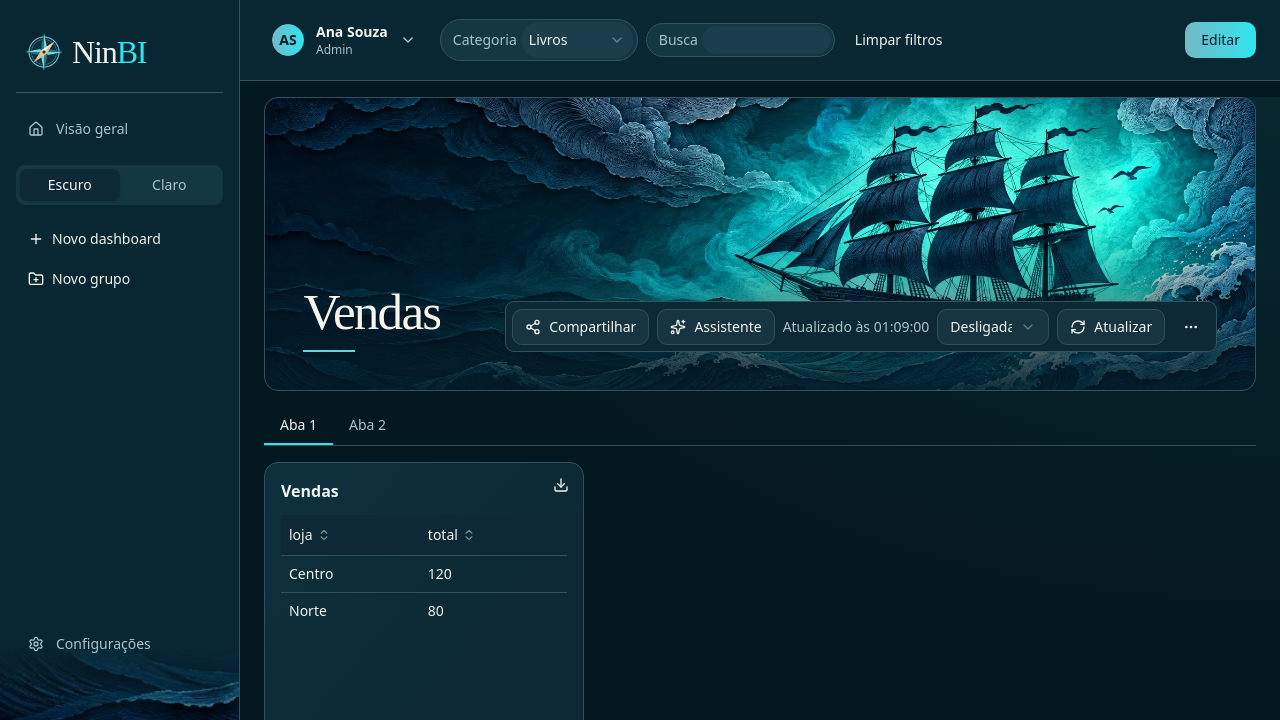
Test: FilterBar › FLT-15 Limpar filtros devolve os valores padrão
Click the dropdown named "Categoria": (577, 40) [521,22,633,58]
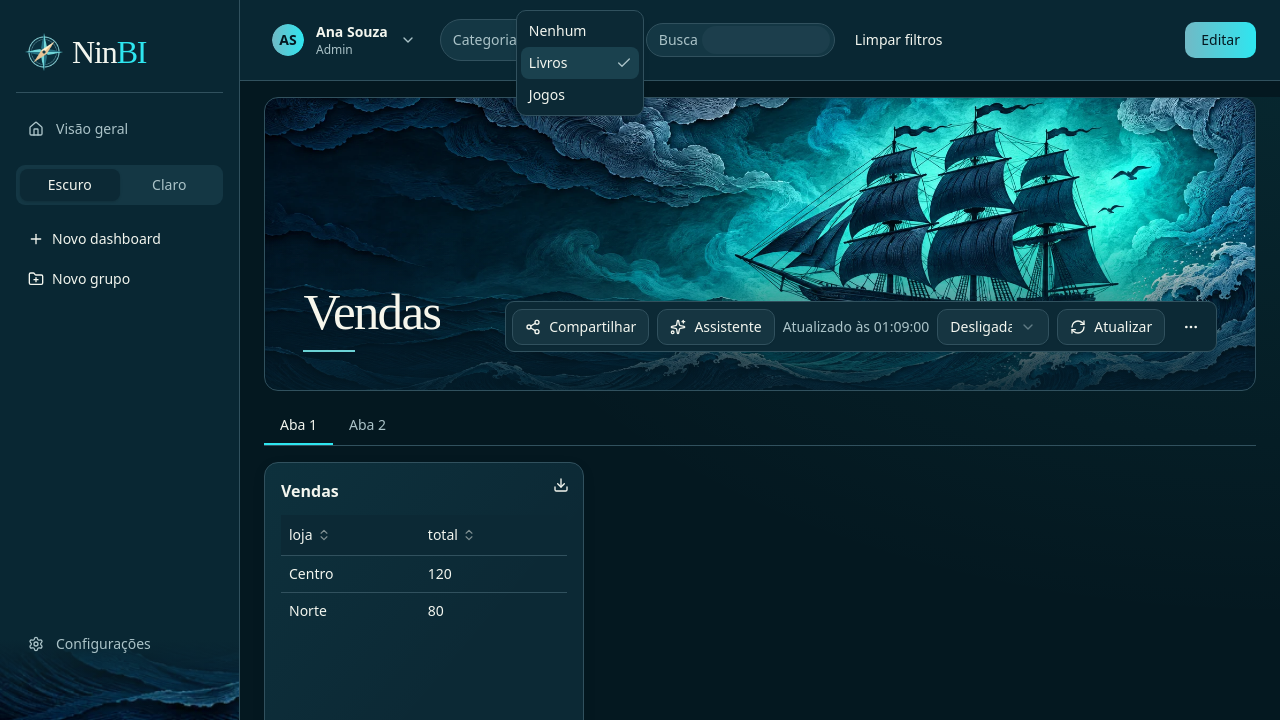
Click the option "Jogos": (547, 94) [529,85,565,104]
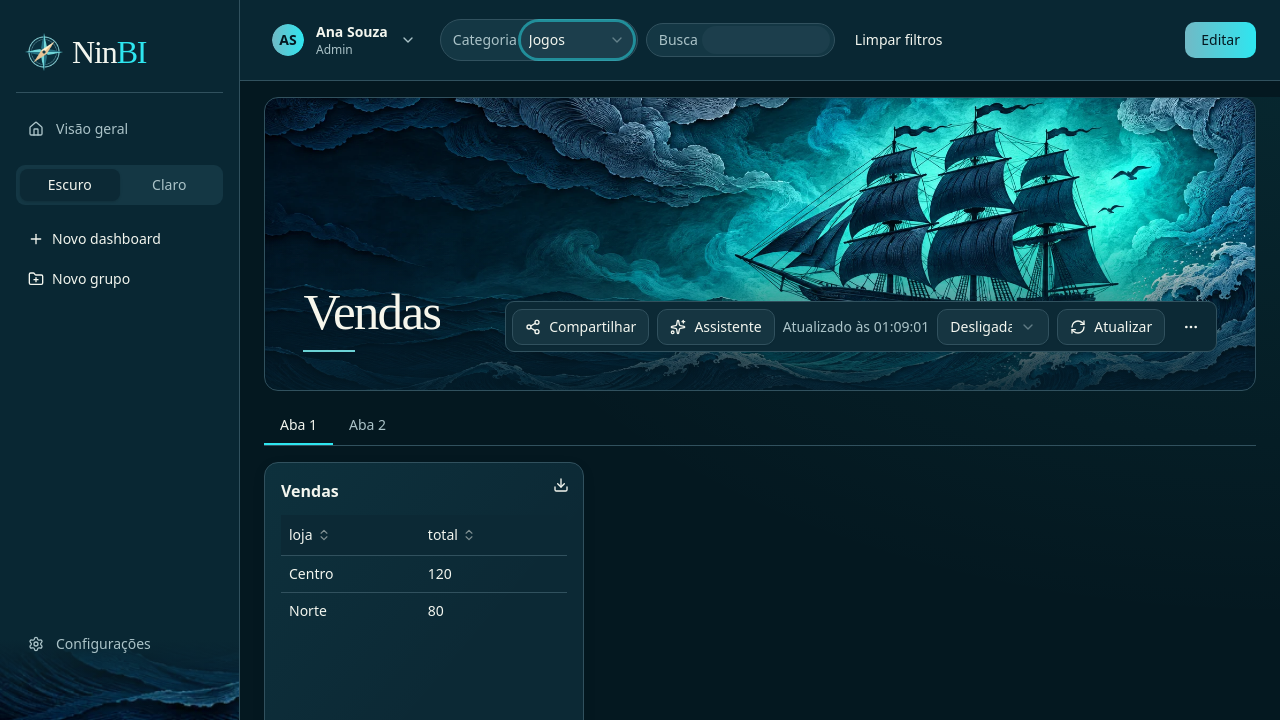
In the field named "Busca": (766, 40) [702,26,830,54], type "abc"
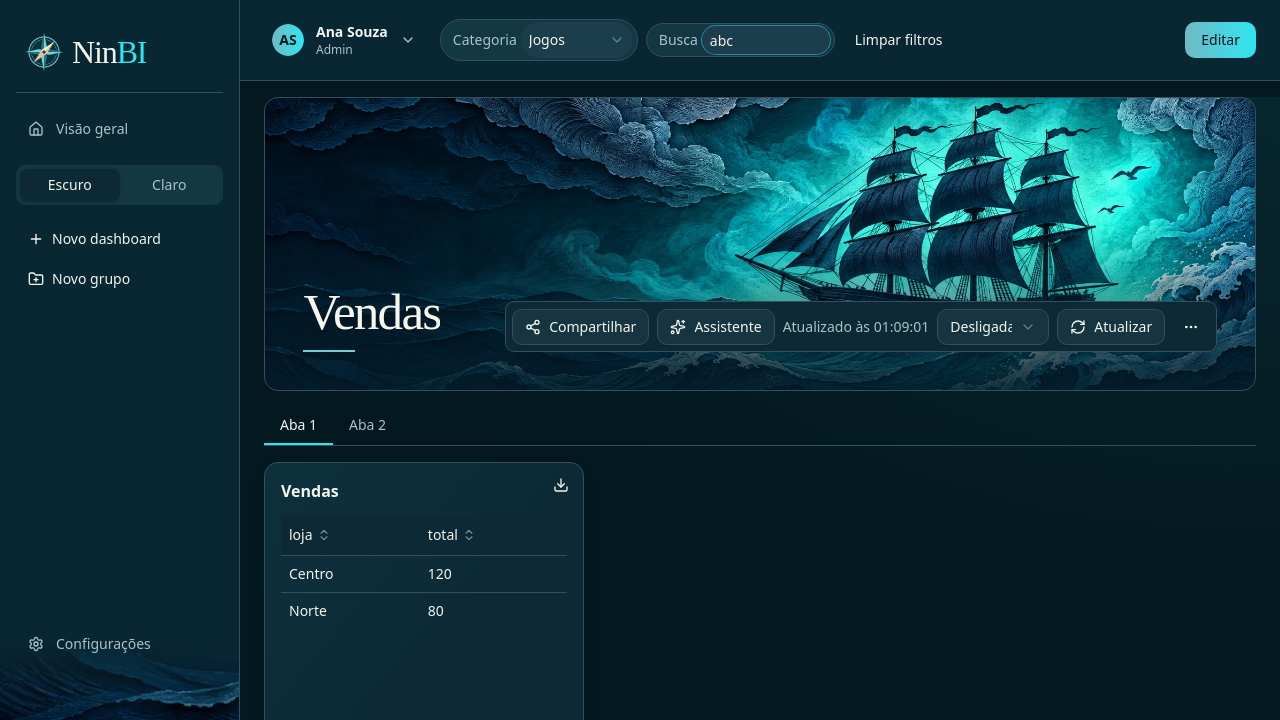
Click the button "Limpar filtros": (899, 40) [843,24,955,56]
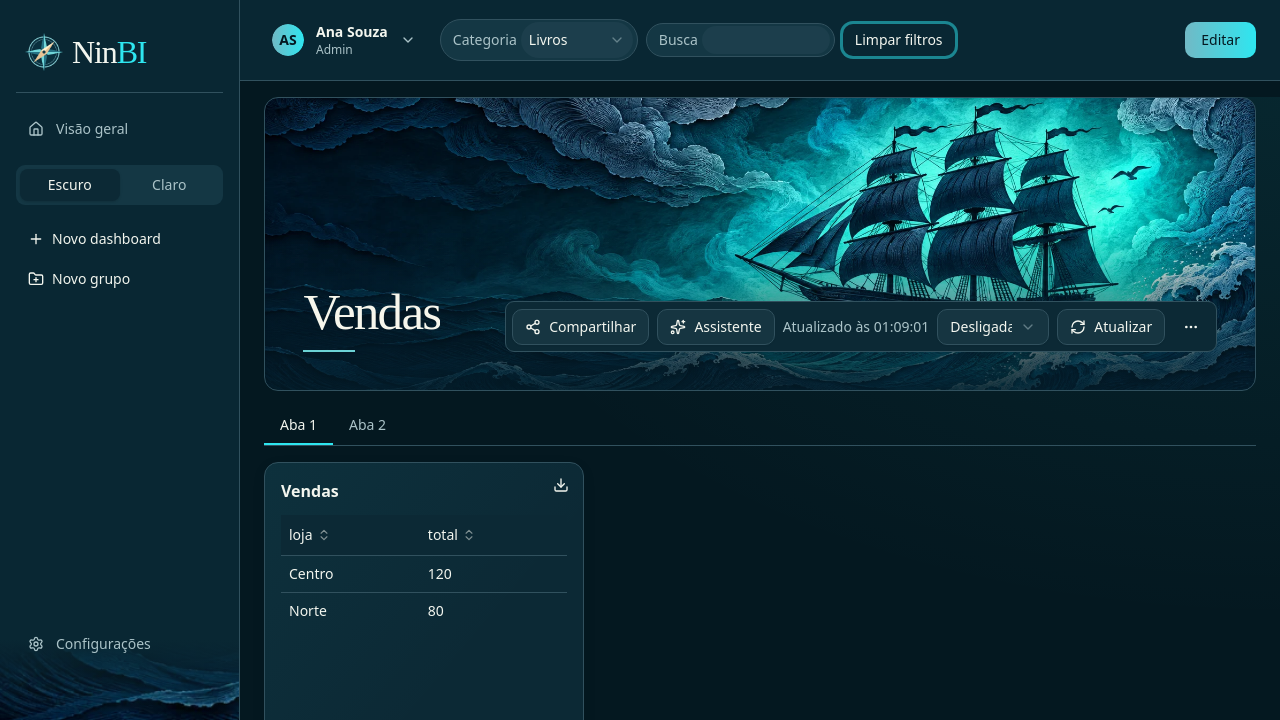
Result: the dropdown named "Categoria" reads "Livros" at [521,22,633,58]
Result: the field named "Busca" is empty at [702,26,830,54]
